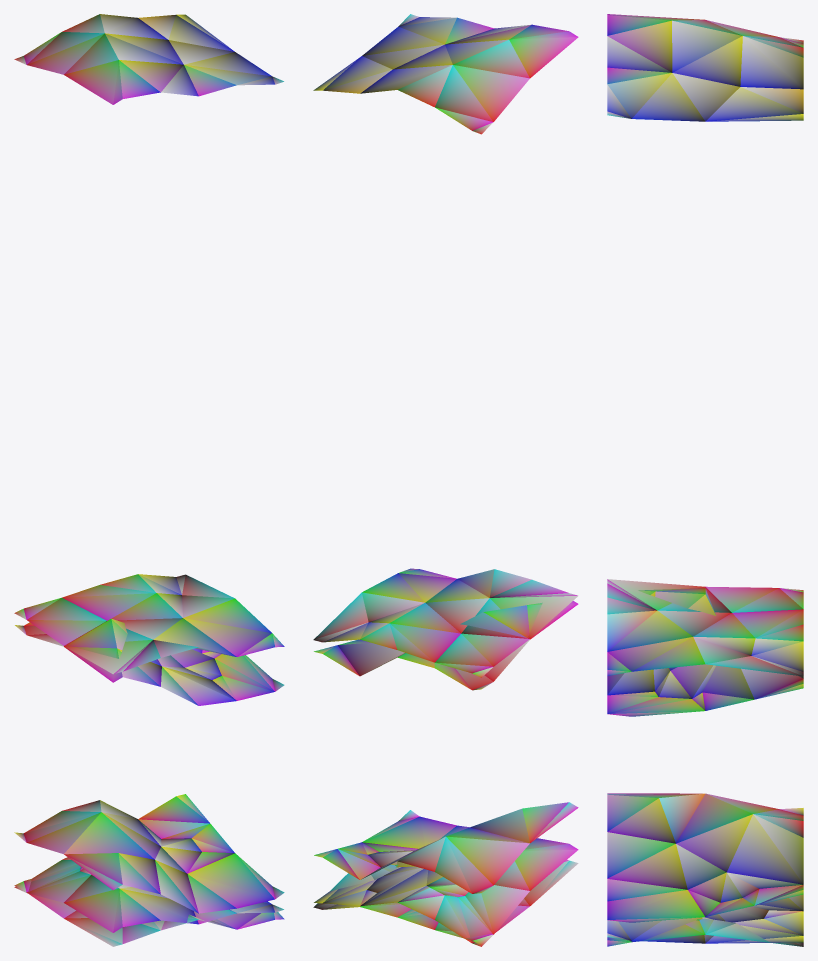
The model's file is ColumnInner.fbx.
3 renders of one model, left to right at view 1: azimuth 30°, elevation 25°; view 2: azimuth 150°, elevation 25°; view 3: azimuth 270°, elevation 25°, orthographic.
Parts seen in each view (by area): view 1: ColumnInner; view 2: ColumnInner; view 3: ColumnInner.
Part boxes in pixels (<box>): ColumnInner: <box>14,14,284,946</box>; ColumnInner: <box>313,14,578,946</box>; ColumnInner: <box>607,14,803,946</box>.
Bounding box in the file's own units: 1 × 4.84 × 1.
